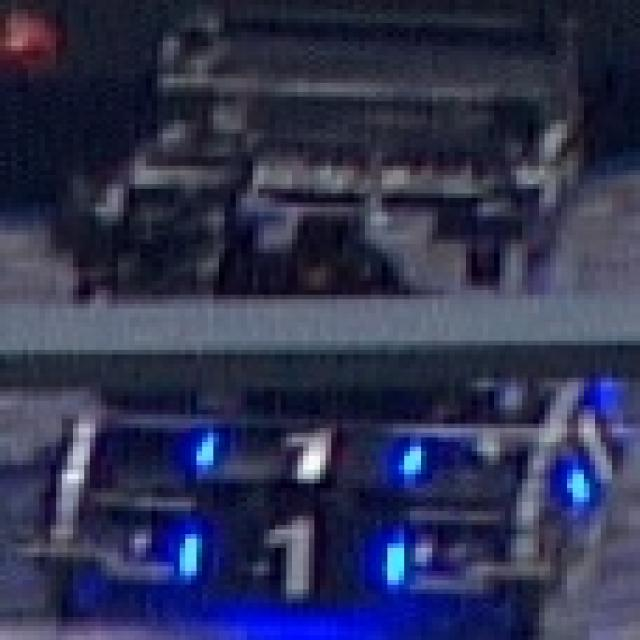B1: (163, 502, 410, 598), (180, 419, 426, 488), (561, 378, 629, 507)
